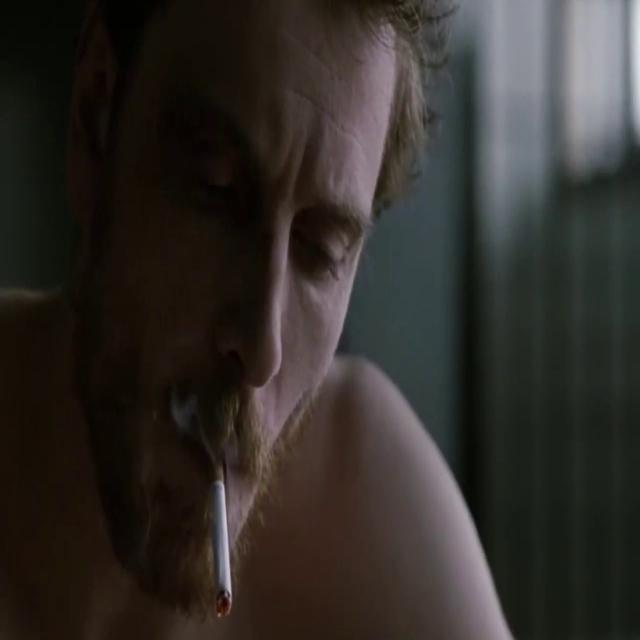Smooking: (213, 465, 248, 635)
